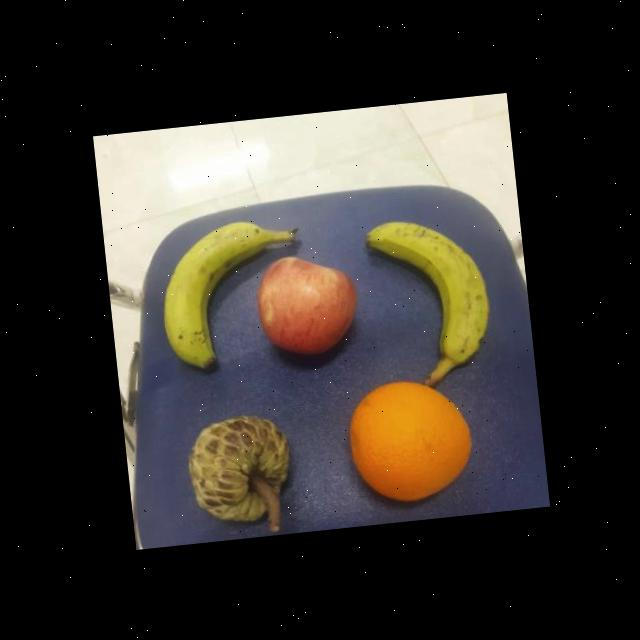Sakya fruit: (182, 410, 295, 525)
apple: (252, 248, 362, 358)
banana: (153, 214, 309, 374), (362, 210, 493, 376)
orange: (342, 371, 477, 504)
